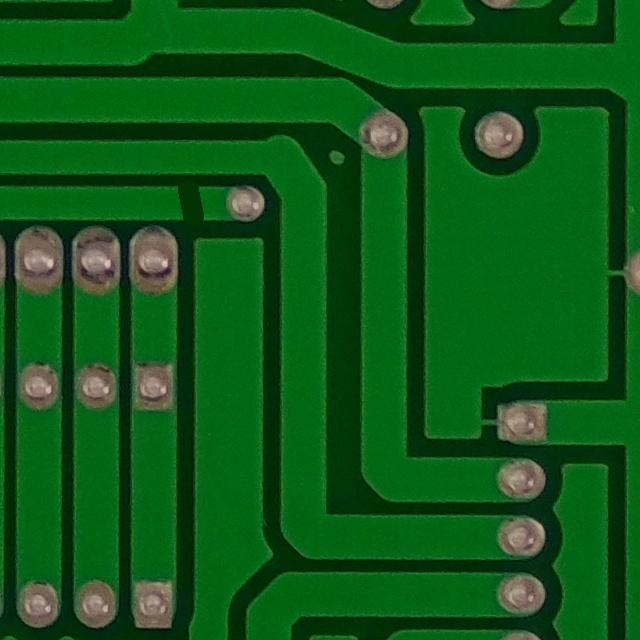open_circuit: (165, 177, 221, 228)
